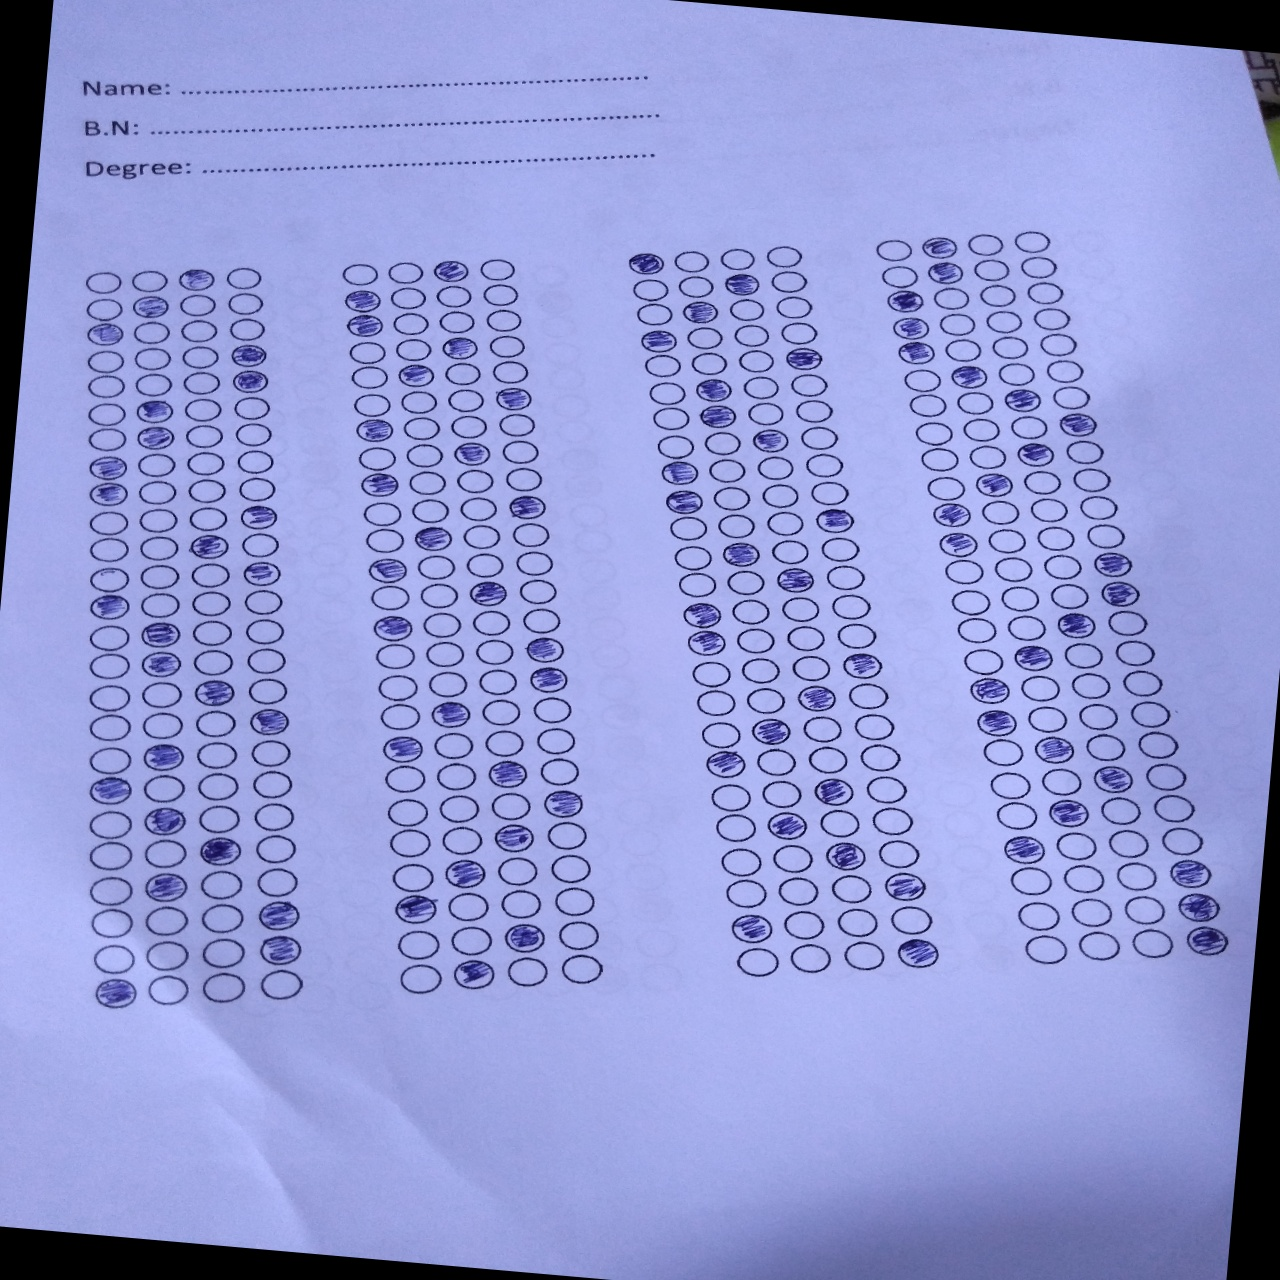not-c: (393, 925, 444, 961), (558, 949, 608, 986), (395, 960, 445, 996), (503, 955, 554, 990), (257, 966, 306, 1002), (553, 919, 605, 953), (431, 794, 482, 826), (496, 856, 546, 888), (445, 924, 496, 956), (497, 888, 549, 920), (384, 828, 435, 859), (436, 825, 486, 857), (483, 790, 533, 822), (549, 852, 599, 884), (545, 821, 595, 852), (443, 891, 493, 922), (144, 938, 191, 972), (1114, 636, 1160, 670), (1128, 697, 1175, 731), (1051, 829, 1098, 863), (553, 887, 602, 919), (1024, 932, 1070, 966), (874, 836, 920, 870), (887, 903, 933, 937), (1122, 893, 1167, 927), (1129, 927, 1175, 961), (770, 842, 816, 876), (856, 738, 901, 772), (851, 708, 897, 742), (1083, 729, 1129, 763), (1152, 791, 1198, 825), (740, 653, 785, 687), (707, 779, 753, 813), (692, 687, 737, 721), (1122, 666, 1167, 700), (1026, 702, 1071, 736), (1037, 763, 1083, 797), (959, 644, 1005, 678), (198, 869, 243, 903), (86, 806, 130, 840), (787, 941, 831, 975), (1076, 928, 1121, 962), (1015, 899, 1060, 933), (1160, 825, 1205, 859), (1114, 859, 1158, 893), (805, 743, 850, 777), (799, 713, 844, 747), (864, 772, 908, 806), (1076, 700, 1121, 734), (1144, 760, 1189, 794), (988, 768, 1033, 802), (981, 736, 1026, 770), (789, 651, 833, 685), (760, 777, 804, 811), (714, 811, 758, 845), (753, 744, 797, 778), (1107, 828, 1151, 862), (200, 937, 246, 969), (87, 744, 132, 777), (87, 874, 132, 907), (1009, 865, 1055, 898), (734, 945, 779, 978), (847, 681, 893, 714), (688, 658, 734, 690), (1068, 670, 1114, 703), (1060, 640, 1105, 673), (199, 971, 243, 1005), (818, 805, 862, 839), (743, 683, 787, 717), (141, 771, 185, 804), (88, 839, 132, 872), (145, 973, 190, 1006), (90, 906, 135, 939), (1058, 894, 1103, 927), (1062, 863, 1107, 896), (870, 804, 914, 837), (833, 905, 878, 938), (831, 872, 876, 905), (777, 873, 822, 906), (723, 876, 768, 908), (1137, 728, 1182, 761), (994, 799, 1039, 832), (717, 846, 762, 879), (1019, 672, 1063, 704), (1097, 795, 1142, 828), (835, 620, 879, 653), (142, 838, 188, 870), (840, 939, 886, 971), (423, 636, 467, 669), (144, 904, 188, 937), (414, 551, 458, 583), (531, 694, 576, 726), (254, 867, 299, 899), (91, 942, 136, 974), (697, 717, 742, 749), (823, 561, 867, 593), (830, 590, 874, 621), (88, 681, 131, 713), (89, 622, 132, 654), (87, 564, 130, 595), (139, 678, 183, 709), (137, 588, 181, 620), (188, 617, 231, 648), (246, 646, 290, 678), (536, 726, 579, 757), (435, 761, 478, 792), (198, 803, 241, 835), (198, 903, 241, 934), (942, 558, 986, 590), (819, 535, 863, 566), (190, 588, 234, 619), (470, 607, 515, 638), (373, 641, 417, 672), (520, 602, 565, 633), (197, 771, 241, 802), (715, 244, 760, 274), (478, 666, 520, 697), (376, 672, 418, 703), (392, 862, 434, 893), (788, 622, 830, 654), (87, 651, 130, 681), (142, 710, 185, 741), (136, 531, 179, 561), (191, 647, 234, 678), (88, 712, 131, 742), (484, 727, 527, 757), (472, 636, 516, 667), (377, 701, 421, 731), (386, 797, 429, 828), (196, 738, 239, 769), (253, 833, 297, 864), (251, 801, 294, 831), (250, 769, 293, 799), (948, 588, 992, 619), (139, 561, 182, 592), (193, 708, 236, 738), (248, 675, 291, 706), (478, 696, 520, 727), (433, 729, 475, 760), (383, 763, 425, 794), (248, 738, 291, 769), (1000, 584, 1042, 614), (1035, 524, 1077, 554), (1084, 520, 1126, 551), (924, 474, 966, 504), (704, 456, 747, 486), (715, 510, 757, 540), (734, 625, 776, 655), (1024, 278, 1067, 308), (931, 284, 973, 314), (538, 757, 581, 787), (244, 617, 287, 646), (421, 608, 464, 638), (728, 597, 771, 626), (992, 556, 1035, 585), (803, 451, 846, 481), (768, 536, 811, 565), (1040, 553, 1083, 583), (1017, 252, 1061, 281), (905, 390, 948, 420), (1061, 438, 1104, 468), (959, 416, 1002, 445), (223, 263, 264, 293), (131, 318, 172, 348), (83, 292, 124, 322), (176, 290, 218, 319), (425, 669, 468, 699), (418, 581, 461, 611), (1006, 612, 1048, 641), (756, 456, 798, 485), (810, 478, 852, 508), (920, 445, 962, 475), (701, 429, 743, 458), (712, 483, 754, 512), (676, 570, 719, 599), (1030, 304, 1073, 333), (877, 260, 919, 290), (899, 365, 941, 394), (798, 423, 840, 452), (964, 442, 1006, 471), (1030, 496, 1073, 525), (942, 335, 985, 365), (955, 388, 998, 417), (1051, 384, 1094, 414), (665, 515, 708, 543), (911, 418, 954, 447), (937, 309, 980, 338), (86, 347, 125, 377), (83, 266, 123, 297), (130, 266, 170, 297), (386, 258, 427, 287), (227, 315, 268, 345), (392, 334, 433, 363), (517, 576, 558, 605), (724, 567, 765, 597), (779, 593, 821, 622), (760, 482, 801, 511), (1107, 610, 1148, 639), (1073, 465, 1114, 495), (987, 526, 1029, 554), (1047, 583, 1089, 611), (872, 234, 914, 263), (1021, 469, 1063, 497), (764, 241, 806, 270), (1046, 358, 1088, 386), (1077, 493, 1121, 520), (339, 259, 379, 288), (447, 387, 486, 416), (189, 505, 229, 535), (89, 533, 129, 563), (370, 583, 411, 611), (243, 588, 284, 617), (190, 560, 231, 588), (956, 617, 998, 645), (765, 508, 806, 536), (670, 543, 712, 571), (976, 499, 1017, 527), (654, 433, 696, 459), (1037, 331, 1080, 358), (969, 256, 1012, 282), (996, 361, 1039, 388), (990, 334, 1033, 361), (976, 284, 1019, 311), (455, 467, 493, 496), (346, 338, 384, 367), (484, 307, 523, 336), (237, 474, 275, 503), (89, 508, 128, 537), (399, 387, 438, 415), (352, 390, 392, 418), (352, 363, 392, 392), (181, 368, 220, 396), (181, 341, 220, 369), (86, 373, 125, 401), (236, 445, 275, 474), (139, 506, 179, 535), (243, 530, 282, 558), (366, 525, 406, 553), (745, 400, 785, 428), (642, 350, 682, 379), (685, 324, 726, 350), (387, 284, 425, 312), (230, 394, 268, 422), (392, 309, 430, 338), (435, 282, 474, 311), (436, 307, 475, 335), (442, 361, 481, 389), (449, 413, 488, 441), (501, 437, 539, 465), (490, 358, 529, 386), (89, 425, 128, 454), (88, 400, 127, 428), (138, 477, 177, 505), (136, 451, 175, 479), (134, 345, 172, 373), (186, 448, 225, 476), (184, 422, 223, 450), (407, 467, 445, 495), (183, 396, 222, 424), (233, 420, 272, 448), (406, 442, 444, 470), (401, 416, 440, 444), (358, 445, 396, 474), (515, 549, 553, 577), (512, 522, 551, 550), (506, 465, 545, 493), (462, 522, 501, 550), (1010, 415, 1053, 441), (983, 308, 1026, 334), (134, 372, 173, 399), (740, 374, 779, 401), (735, 347, 775, 374), (726, 297, 765, 324), (772, 295, 812, 322), (789, 372, 829, 399), (688, 349, 728, 376), (670, 248, 710, 275), (651, 406, 690, 433), (647, 379, 687, 406), (632, 275, 672, 302), (794, 399, 835, 424), (629, 301, 670, 327), (497, 410, 535, 438), (225, 291, 264, 318), (179, 316, 218, 343), (482, 282, 520, 309), (477, 256, 516, 282), (188, 476, 226, 503), (363, 501, 402, 527), (459, 496, 498, 523), (1013, 227, 1051, 254), (769, 270, 808, 297), (410, 497, 449, 524), (731, 321, 771, 347), (673, 272, 713, 298), (488, 334, 526, 360), (778, 319, 817, 345), (967, 230, 1006, 256)
taken-c: (257, 933, 302, 968), (451, 956, 498, 990), (1046, 795, 1092, 829), (257, 898, 302, 932), (196, 835, 241, 869), (91, 976, 137, 1010), (999, 832, 1044, 866), (883, 870, 928, 904), (701, 748, 747, 782), (750, 715, 796, 749), (678, 597, 723, 631), (143, 872, 190, 905), (728, 912, 772, 946), (974, 704, 1019, 738), (1091, 764, 1136, 798), (1098, 577, 1143, 611), (683, 628, 728, 662), (896, 937, 941, 969), (1175, 891, 1220, 924), (811, 774, 857, 806), (765, 809, 811, 842), (935, 527, 981, 560), (717, 539, 763, 572), (838, 648, 884, 681), (141, 806, 188, 838), (1184, 925, 1228, 958), (822, 839, 866, 872), (794, 681, 838, 714), (1012, 640, 1056, 673), (967, 674, 1012, 707), (772, 564, 817, 597), (812, 503, 857, 536), (88, 775, 134, 806), (394, 893, 440, 925), (1033, 735, 1078, 767), (542, 788, 586, 819), (501, 922, 546, 953), (493, 822, 536, 855), (429, 699, 472, 730), (248, 704, 291, 736), (143, 741, 185, 772), (381, 734, 424, 764), (1169, 858, 1212, 888), (1092, 549, 1132, 581), (486, 758, 529, 789), (1056, 610, 1096, 641), (134, 395, 175, 425), (130, 292, 171, 322), (241, 558, 282, 588), (366, 554, 407, 585), (188, 531, 229, 561), (413, 524, 454, 554), (452, 440, 493, 470), (354, 415, 395, 445), (87, 479, 128, 510), (139, 620, 181, 651), (445, 858, 486, 888), (176, 264, 216, 294), (87, 452, 127, 483), (525, 634, 566, 663), (343, 285, 384, 314), (372, 614, 413, 644), (468, 580, 509, 610), (508, 491, 549, 520), (395, 361, 436, 390), (440, 333, 481, 362), (141, 649, 182, 679), (948, 362, 989, 392), (431, 258, 472, 287), (231, 366, 271, 395), (227, 339, 267, 368), (86, 319, 125, 348), (359, 471, 399, 501), (493, 382, 533, 411), (238, 503, 278, 532), (135, 423, 175, 452), (195, 678, 234, 707), (89, 592, 129, 621), (1002, 384, 1042, 414), (343, 309, 384, 338), (896, 338, 937, 366), (681, 298, 721, 326), (663, 489, 704, 516), (1015, 441, 1056, 468), (886, 287, 925, 315), (932, 501, 972, 527), (658, 459, 697, 486), (783, 345, 823, 372), (692, 376, 731, 403), (696, 403, 736, 430), (974, 472, 1014, 499), (1056, 413, 1096, 440), (626, 250, 666, 277), (722, 272, 762, 299), (918, 234, 958, 261), (890, 314, 930, 341), (753, 428, 794, 454), (925, 260, 964, 287), (638, 328, 678, 354)
